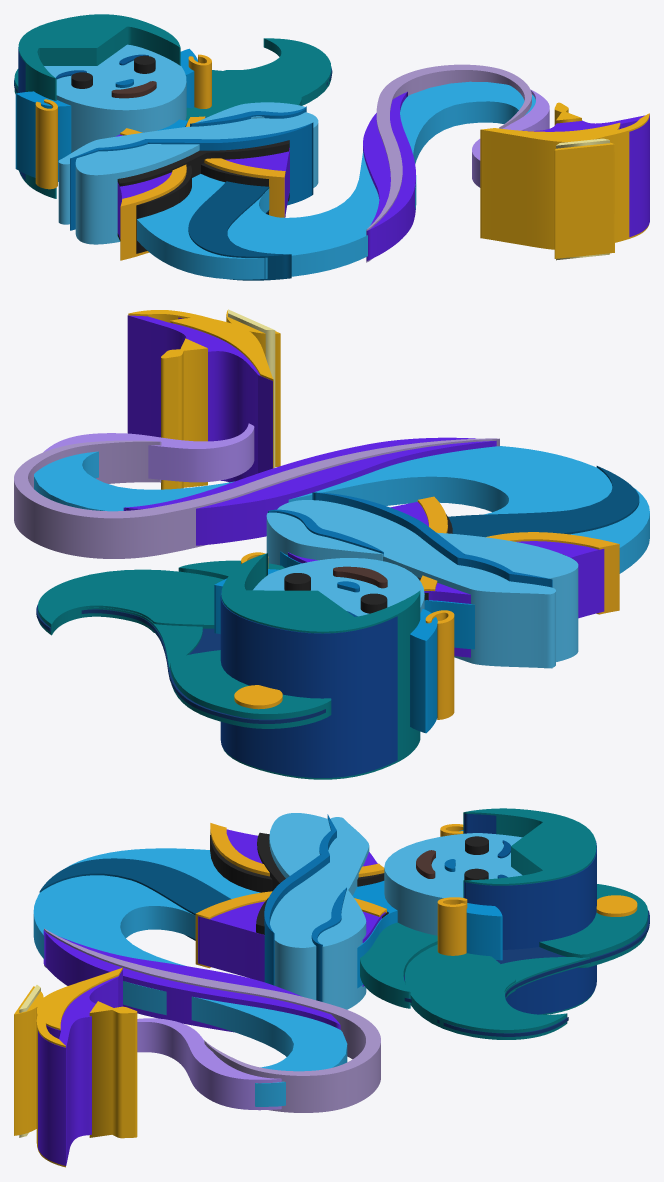
Rendered from emoji_u1f9de_200d_2640.glb.
3 renders of one model, top to bottom at view 1: azimuth 30°, elevation 25°; view 2: azimuth 150°, elevation 25°; view 3: azimuth 270°, elevation 25°, orthographic. The views are drawn at different scales.
Parts seen in each view (by area): view 1: emoji_u1f9de_200d_2640; view 2: emoji_u1f9de_200d_2640; view 3: emoji_u1f9de_200d_2640.
Part boxes in pixels (x1,y1,x2,y2): emoji_u1f9de_200d_2640: (14,14,649,280); emoji_u1f9de_200d_2640: (14,309,649,779); emoji_u1f9de_200d_2640: (14,808,649,1167).
Size of the model in its own units: 0.0326 by 0.008 by 0.0342.
